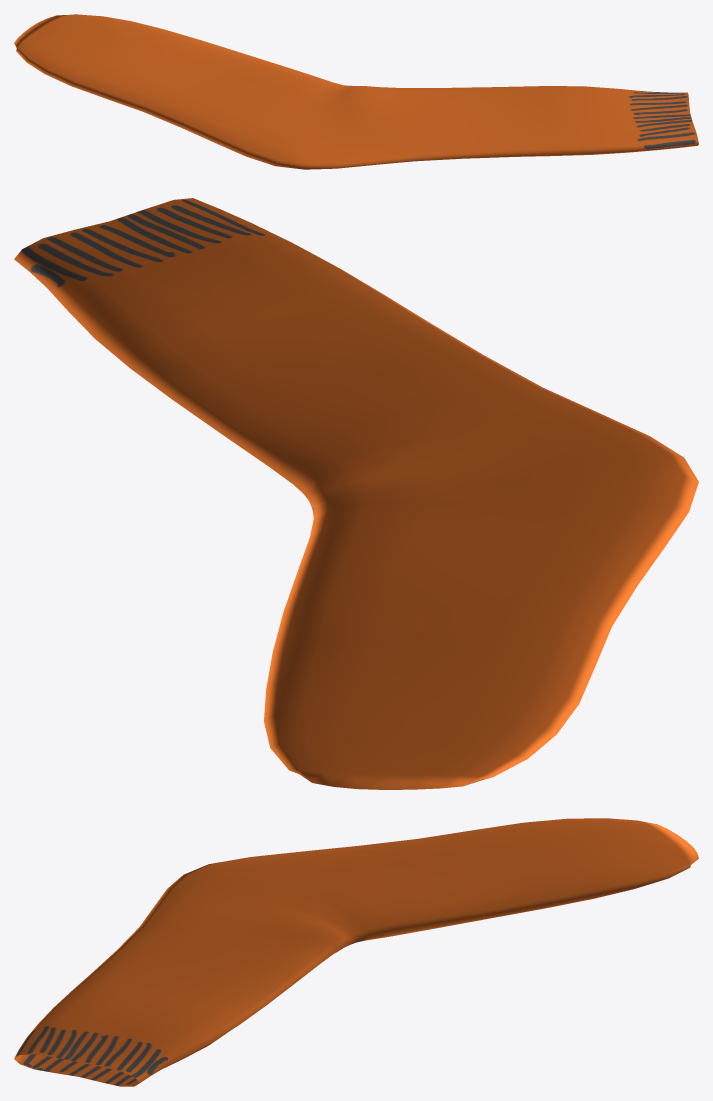
The model's file is Sock.fbx.
3 views of the same model, one above another, from view 1: azimuth 30°, elevation 25°; view 2: azimuth 150°, elevation 25°; view 3: azimuth 270°, elevation 25° (orthographic). The views are drawn at different scales.
Visible parts, largest first — view 1: node_id3; view 2: node_id3; view 3: node_id3.
Part boxes in pixels (x1=…): node_id3: x1=14, y1=14, x2=698, y2=169; node_id3: x1=14, y1=198, x2=698, y2=789; node_id3: x1=14, y1=818, x2=698, y2=1086.
Size of the model in its own units: 0.512 by 0.0202 by 0.5598.
1 material, 1 textured.
